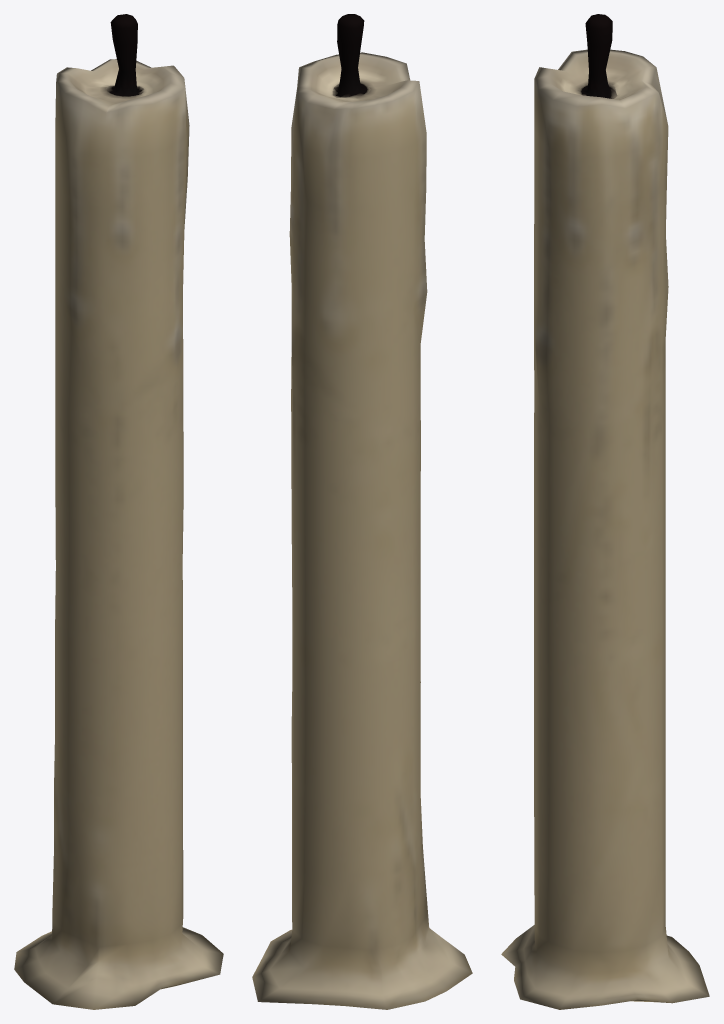
File: candle_08.fbx
3 views of the same model, side by side, from view 1: azimuth 30°, elevation 25°; view 2: azimuth 150°, elevation 25°; view 3: azimuth 270°, elevation 25° (orthographic).
Visible parts, largest first — view 1: Candle_008; view 2: Candle_008; view 3: Candle_008.
Boxes of the visible parts, x1,y1,x2,y2 form: Candle_008: (14,14,223,1009); Candle_008: (252,14,472,1009); Candle_008: (501,14,709,1009).
Size of the model in its own units: 30 by 154 by 30.21.
